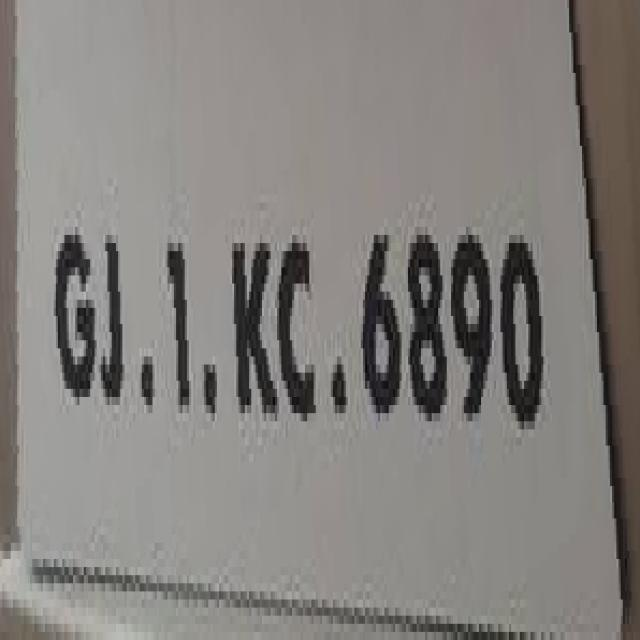license_plate: (26, 40, 640, 616)
